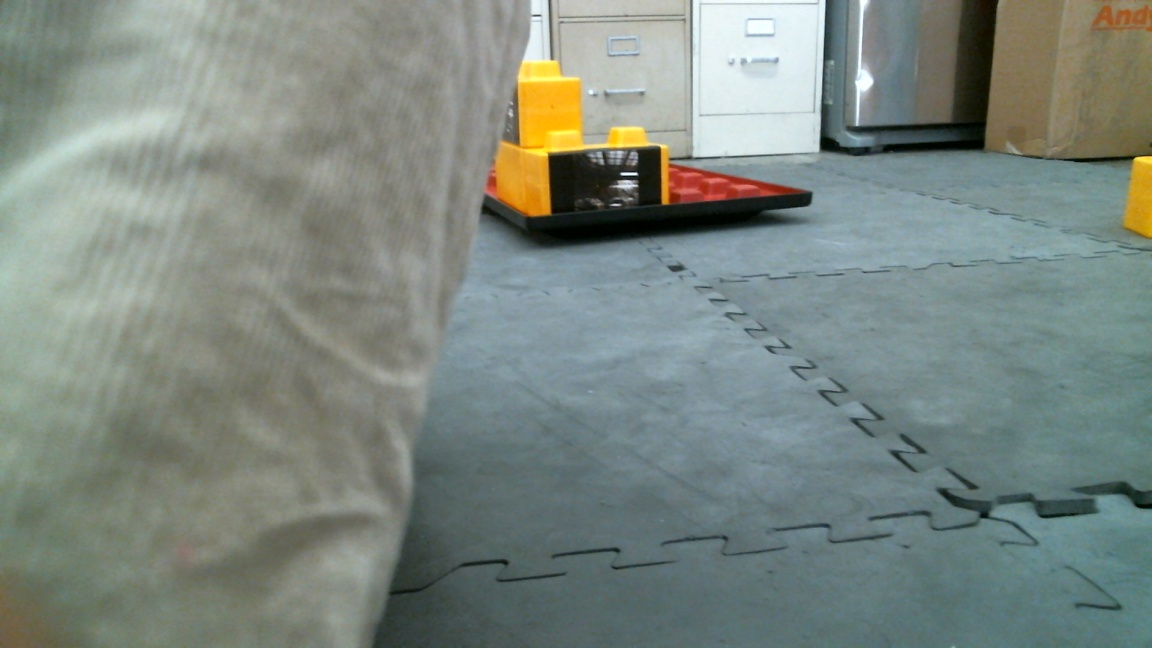skystone: (530, 132, 676, 210)
stone: (496, 143, 526, 208)
